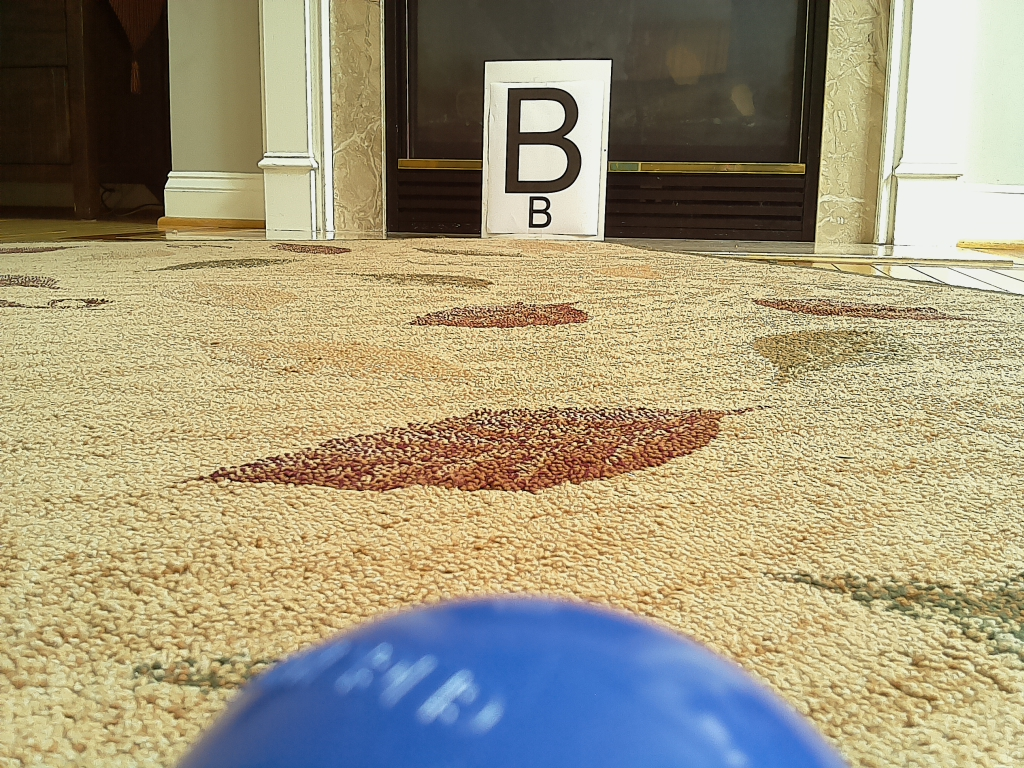letter: (505, 87, 582, 194)
